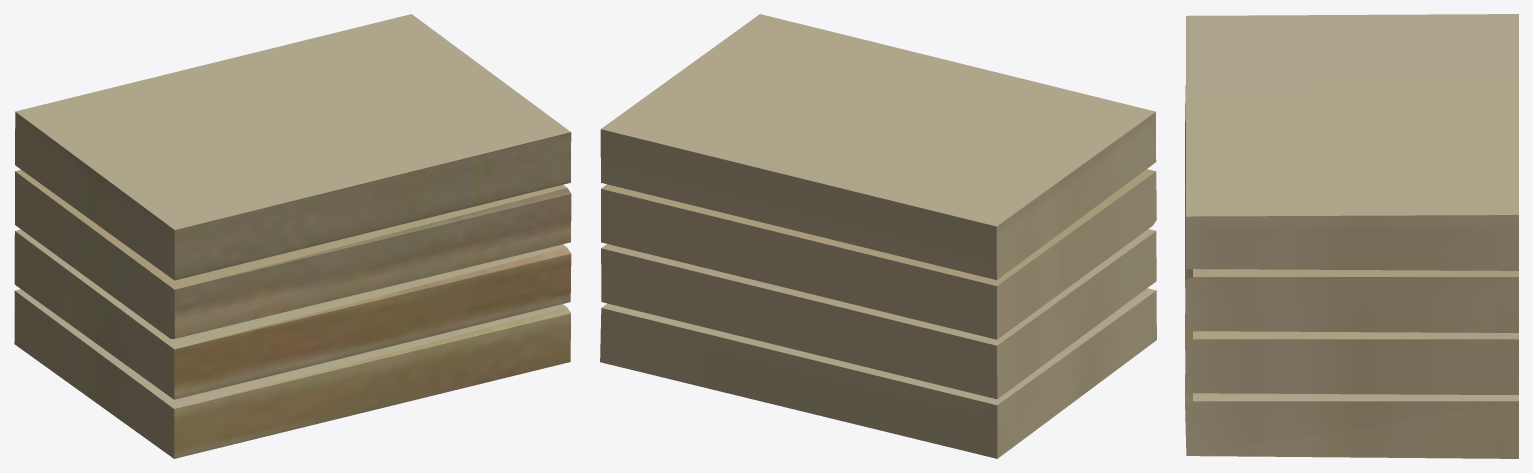
The model's file is book2_h4.dae.
3 views of the same model, side by side, from view 1: azimuth 30°, elevation 25°; view 2: azimuth 150°, elevation 25°; view 3: azimuth 270°, elevation 25° (orthographic). The views are drawn at different scales.
Visible parts, largest first — view 1: node; view 2: node; view 3: node.
Part boxes in pixels (x1,y1,x2,y2): node: [14, 14, 571, 458]; node: [600, 14, 1156, 458]; node: [1185, 14, 1518, 458].
Size of the model in its own units: 0.1724 by 0.0967 by 0.1201.
1 material, 1 textured.
